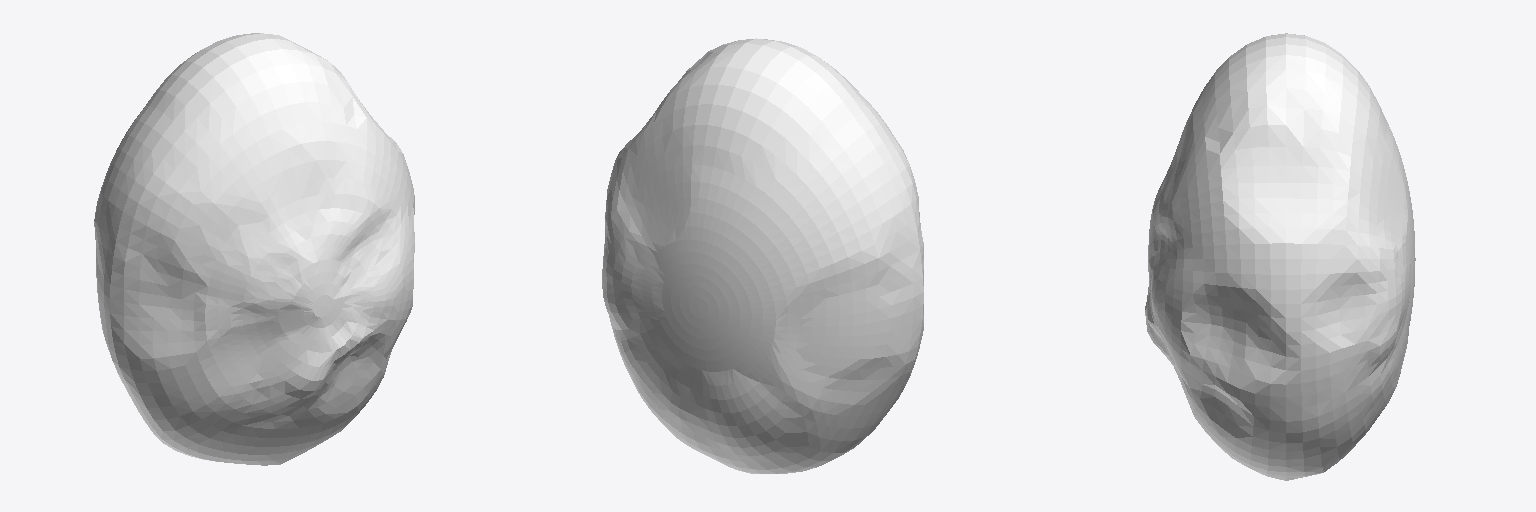
The model's file is s17pandora_MLfix.obj.
3 views of the same model, side by side, from view 1: azimuth 30°, elevation 25°; view 2: azimuth 150°, elevation 25°; view 3: azimuth 270°, elevation 25° (orthographic).
Bounding box in the file's own units: 84.84 × 114 × 65.91.